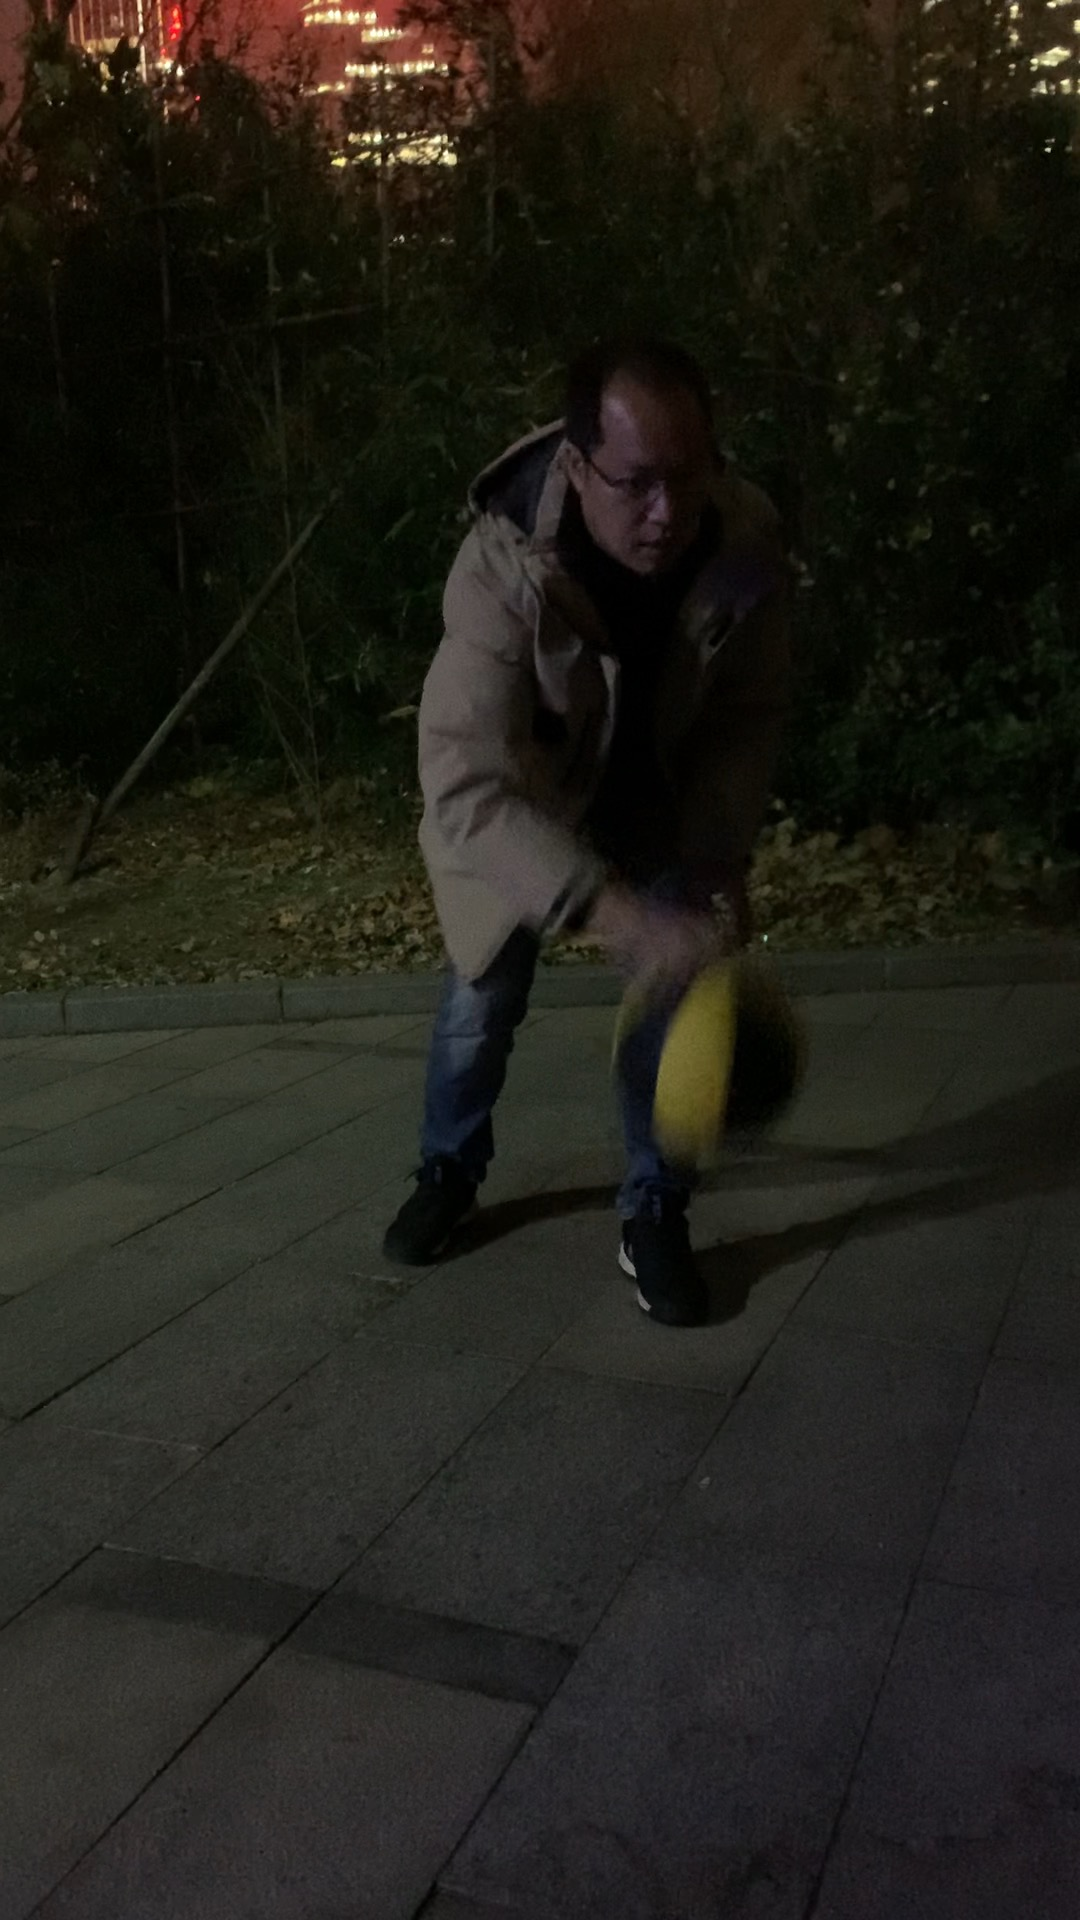ball: (605, 967, 814, 1175)
